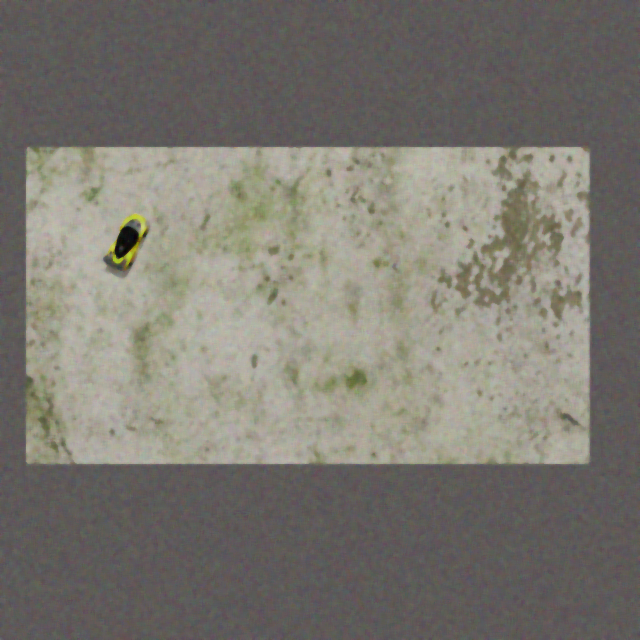car: (99, 208, 154, 274)
